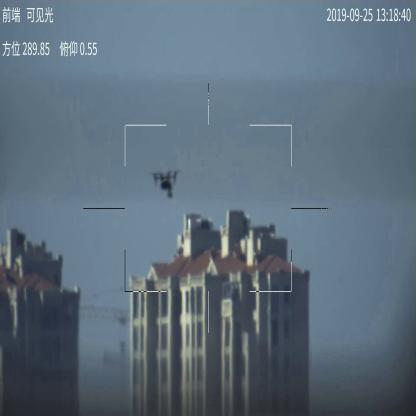uav: (152, 171, 178, 198)
